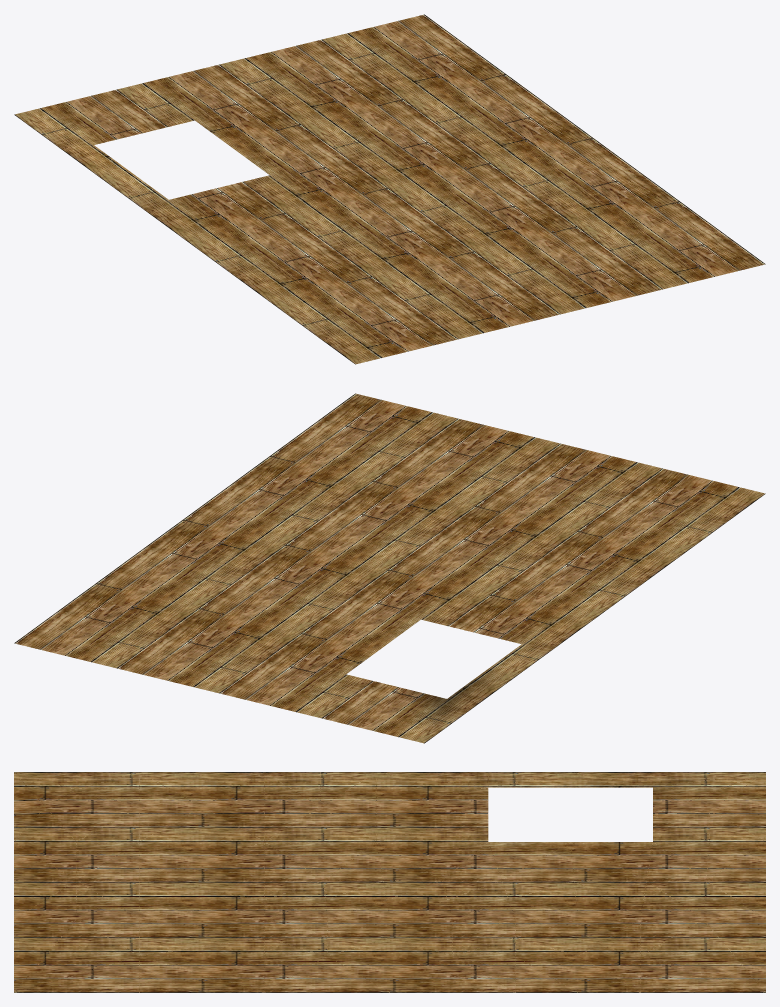
The model's file is LAKETOWN_PUB_PS_PUB_FLOOR_1373736.fbx.
3 views of the same model, one above another, from view 1: azimuth 30°, elevation 25°; view 2: azimuth 150°, elevation 25°; view 3: azimuth 270°, elevation 25° (orthographic). The views are drawn at different scales.
Visible parts, largest first — view 1: LAKETOWN_PUB_PS_PUB_FLOOR_1373736; view 2: LAKETOWN_PUB_PS_PUB_FLOOR_1373736; view 3: LAKETOWN_PUB_PS_PUB_FLOOR_1373736.
Boxes of the visible parts, <box> form: LAKETOWN_PUB_PS_PUB_FLOOR_1373736: <box>14,14,765,364</box>; LAKETOWN_PUB_PS_PUB_FLOOR_1373736: <box>14,393,765,743</box>; LAKETOWN_PUB_PS_PUB_FLOOR_1373736: <box>14,772,765,992</box>.
Bounding box in the file's own units: 59638 × 0.014 × 85879.
1 material, 1 textured.
